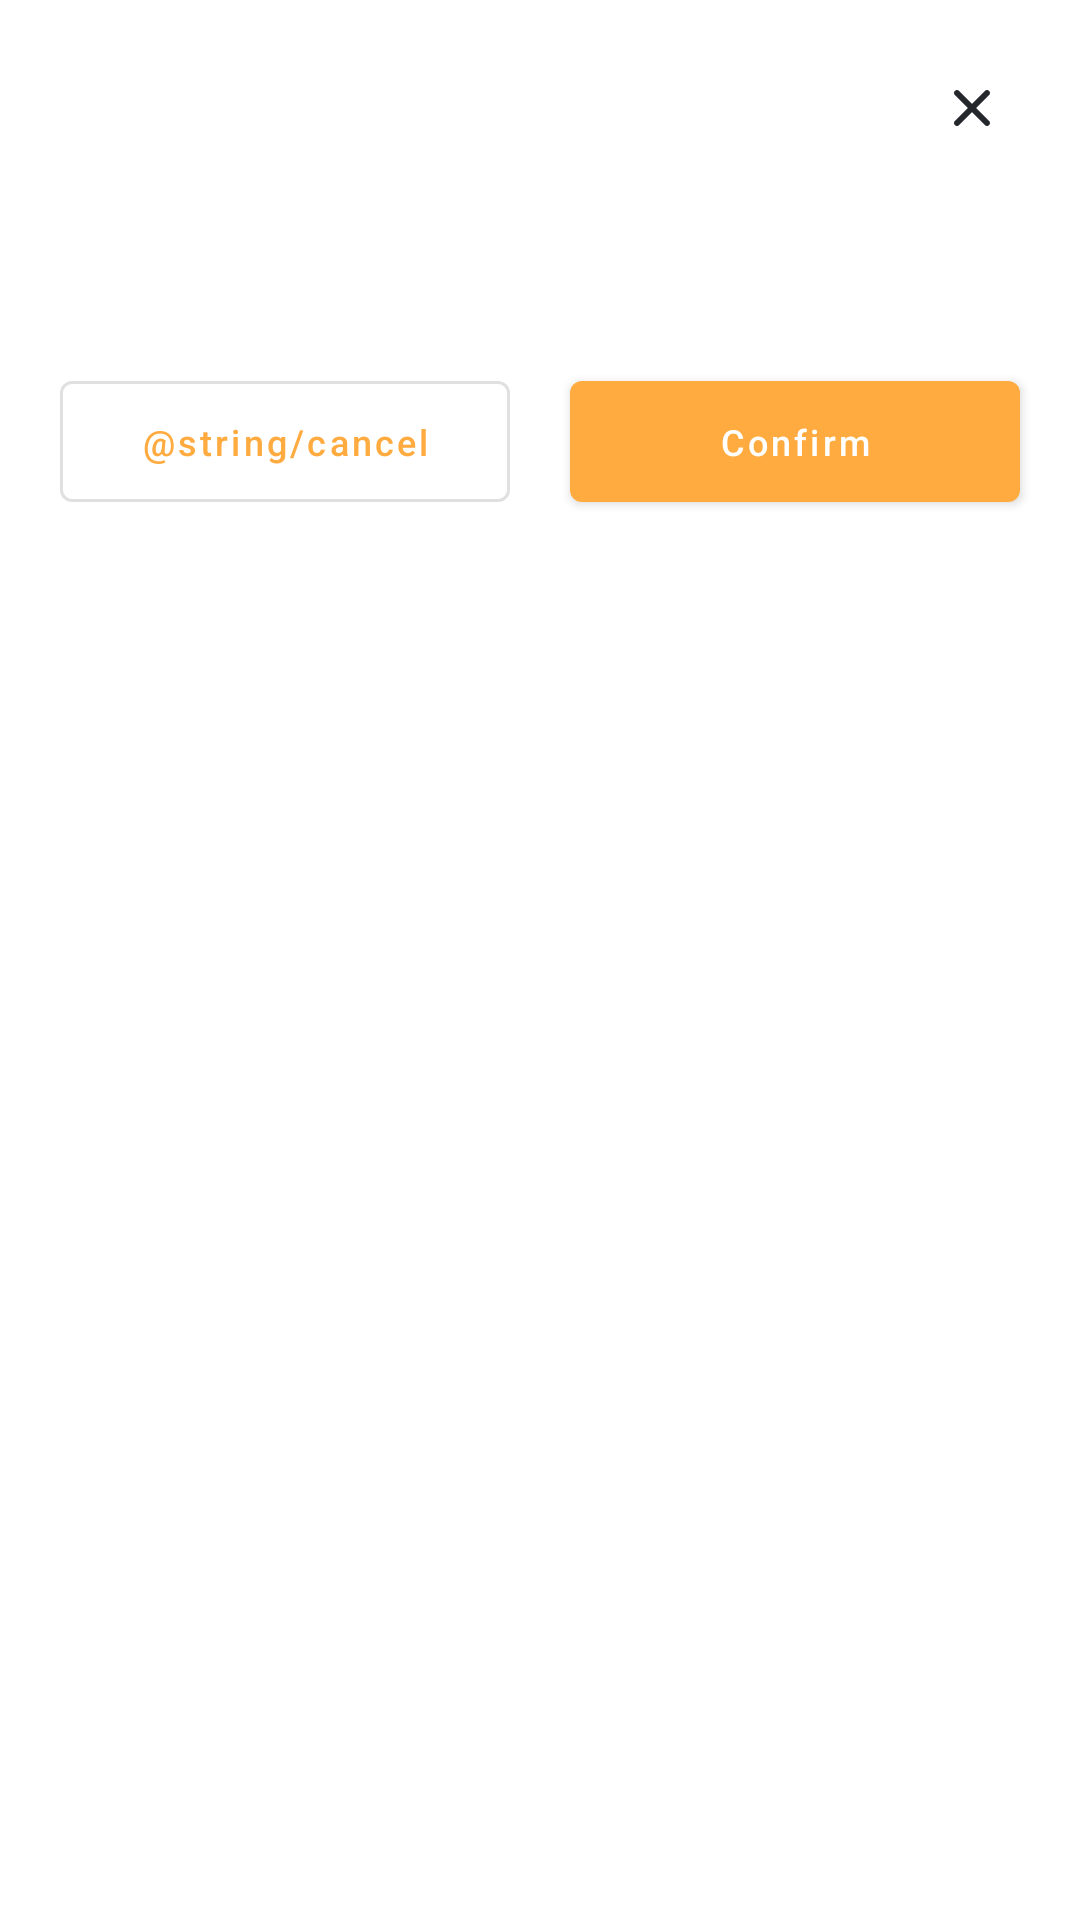

Screen size 1080px×1920px. Icon name, then its center in pixels as point (x, y):
clear: point (972, 108)
